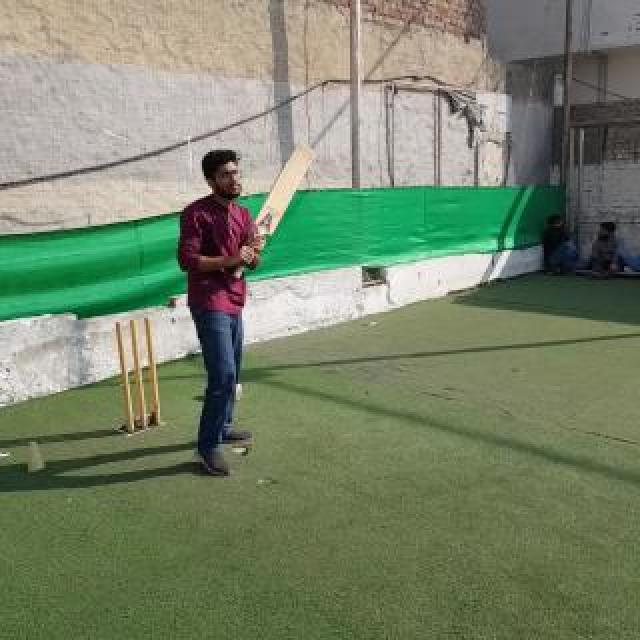bat: (234, 142, 316, 280)
